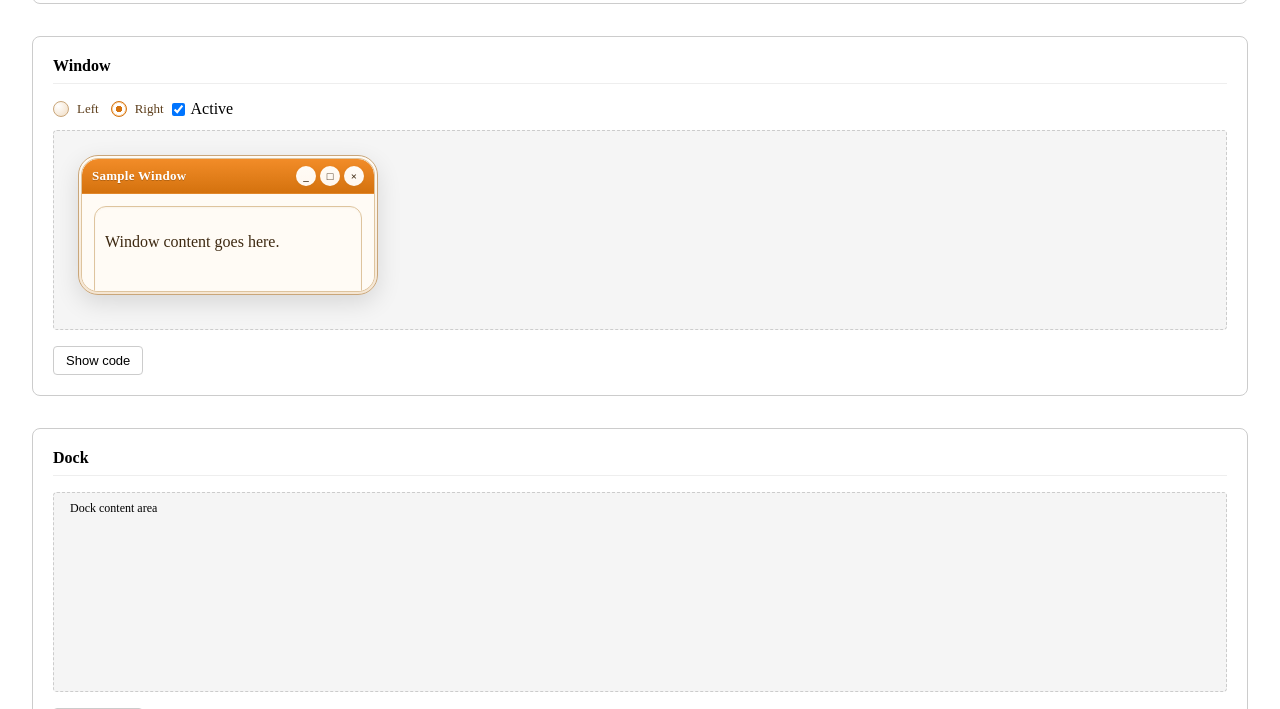
Test: ComponentCatalog › expanding Window section reveals CWindow snippet
(page scrolled)
What coordinates should you click on to do the following:
click the button "Show code" below "Window content goes here."
I would click on:
 (98, 361)
Its box is [53,346,143,375].
(page scrolled)
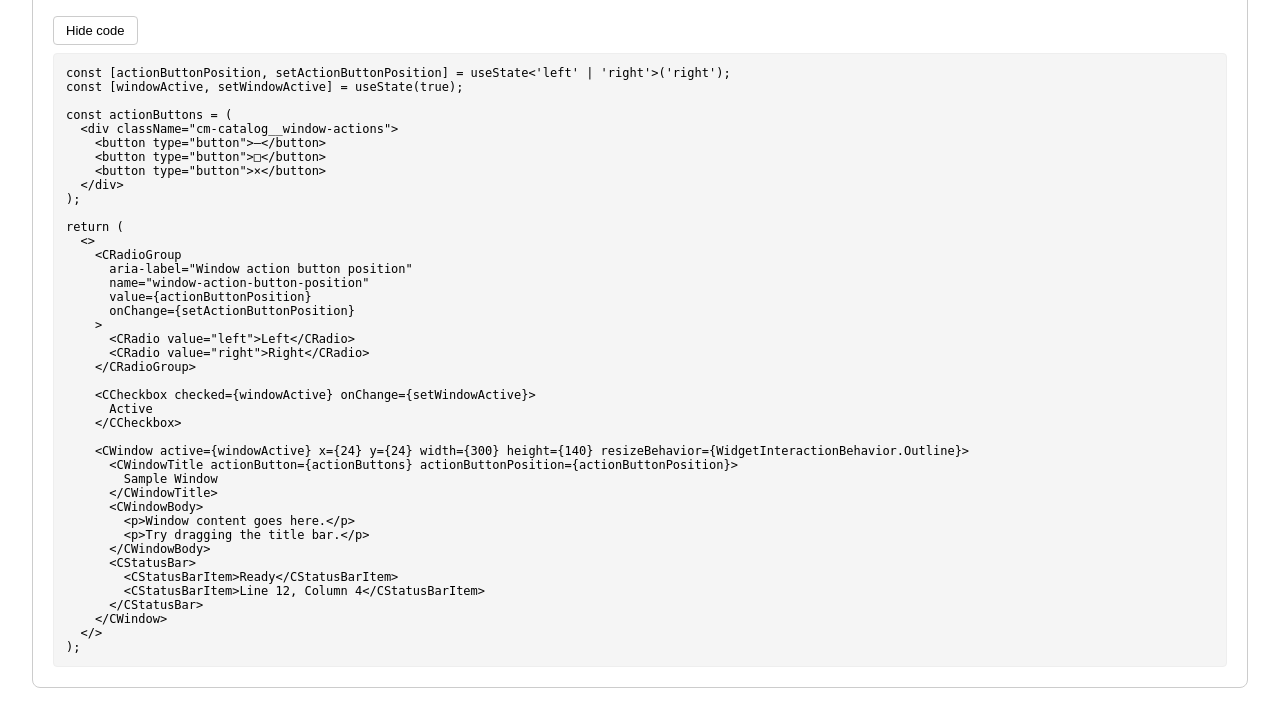
Now the button named "Show code" is expanded, box [53,16,138,45]
Now the text "CWindow" is shown, box [66,66,969,654]
